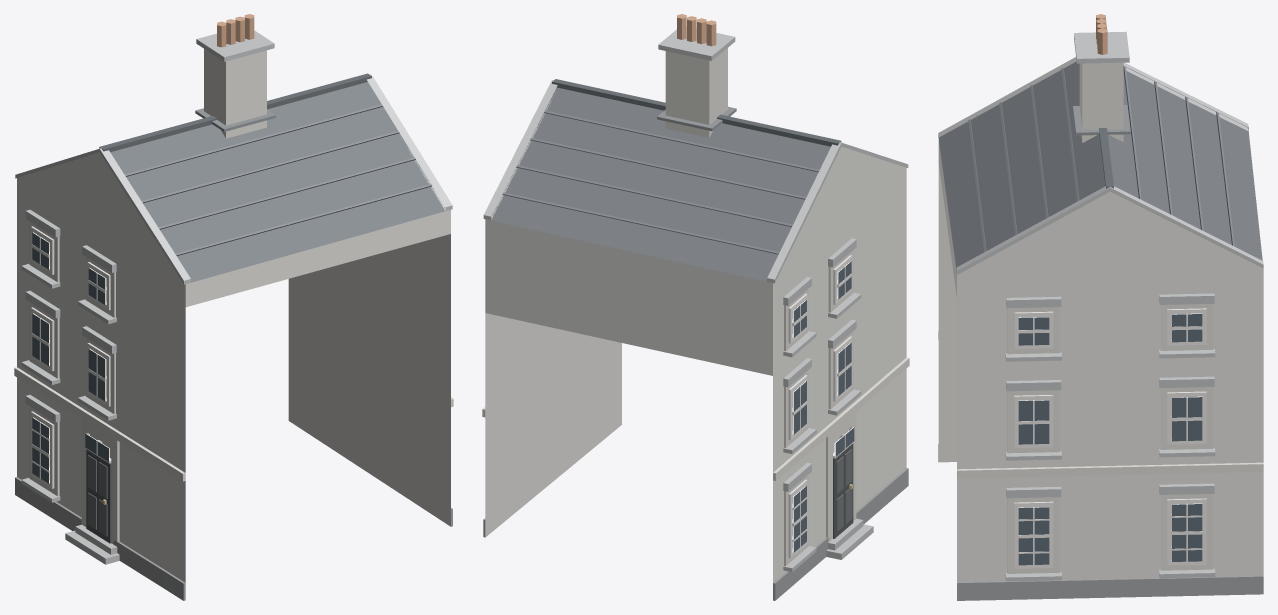
3 renders of one model, left to right at view 1: azimuth 30°, elevation 25°; view 2: azimuth 150°, elevation 25°; view 3: azimuth 270°, elevation 25°, orthographic. The views are drawn at different scales.
Parts seen in each view (by area): view 1: harl, slate, stone_band, string, chim_render, slate_lt, frame, plinth, slate_dk, door_dark_p, door_dark, pot (+3 smaller); view 2: harl, slate, stone_band, string, chim_render, slate_lt, frame, slate_dk, plinth, door_dark_p, pot, door_dark (+2 smaller); view 3: harl, slate, stone_band, string, frame, plinth, slate_lt, chim_render, window_glass_001, window_glass_004, window_glass_002, window_glass_005 (+5 smaller).
Part boxes in pixels (left/top/right/bottom): harl: left=17, top=152, right=450, bottom=582; slate: left=110, top=82, right=445, bottom=282; stone_band: left=15, top=30, right=452, bottom=564; string: left=14, top=221, right=453, bottom=543; chim_render: left=204, top=49, right=266, bottom=138; slate_lt: left=125, top=104, right=431, bottom=255; frame: left=31, top=226, right=111, bottom=488; plinth: left=15, top=477, right=452, bottom=600; slate_dk: left=99, top=73, right=371, bottom=152; door_dark_p: left=87, top=455, right=107, bottom=536; door_dark: left=86, top=449, right=111, bottom=543; pot: left=217, top=14, right=254, bottom=47; harl: left=485, top=146, right=906, bottom=582; slate: left=491, top=87, right=830, bottom=281; stone_band: left=483, top=26, right=908, bottom=572; string: left=482, top=250, right=909, bottom=565; chim_render: left=665, top=48, right=727, bottom=137; slate_lt: left=502, top=110, right=819, bottom=254; frame: left=788, top=255, right=853, bottom=558; slate_dk: left=552, top=79, right=841, bottom=146; plinth: left=483, top=468, right=908, bottom=600; door_dark_p: left=836, top=449, right=852, bottom=531; pot: left=677, top=14, right=716, bottom=46; door_dark: left=833, top=443, right=853, bottom=538; harl: left=938, top=140, right=1263, bottom=581; slate: left=939, top=61, right=1262, bottom=270; stone_band: left=938, top=31, right=1263, bottom=581; string: left=938, top=304, right=1263, bottom=573; frame: left=1014, top=308, right=1206, bottom=568; plinth: left=938, top=444, right=1263, bottom=600; slate_lt: left=968, top=66, right=1234, bottom=252; chim_render: left=1079, top=62, right=1123, bottom=142; window_glass_001: left=1018, top=507, right=1049, bottom=565; window_glass_004: left=1172, top=503, right=1202, bottom=561; window_glass_002: left=1018, top=400, right=1049, bottom=444; window_glass_005: left=1172, top=396, right=1202, bottom=441.
Size of the model in its own units: 8.38 by 12.72 by 7.45.
